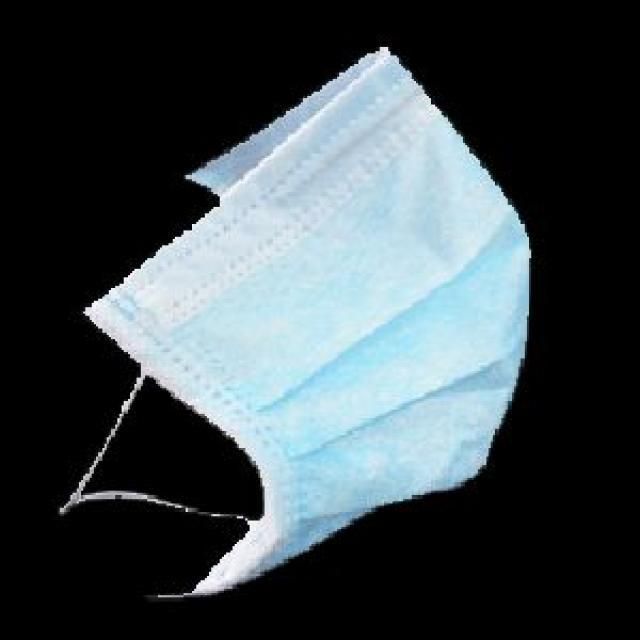face mask: (66, 51, 540, 604)
